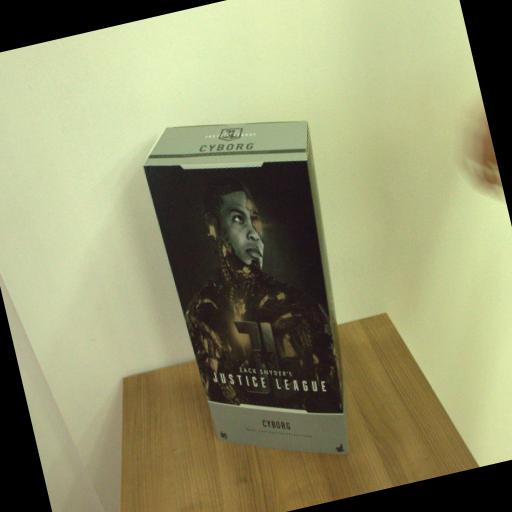Cyborg: (136, 92, 383, 486)
